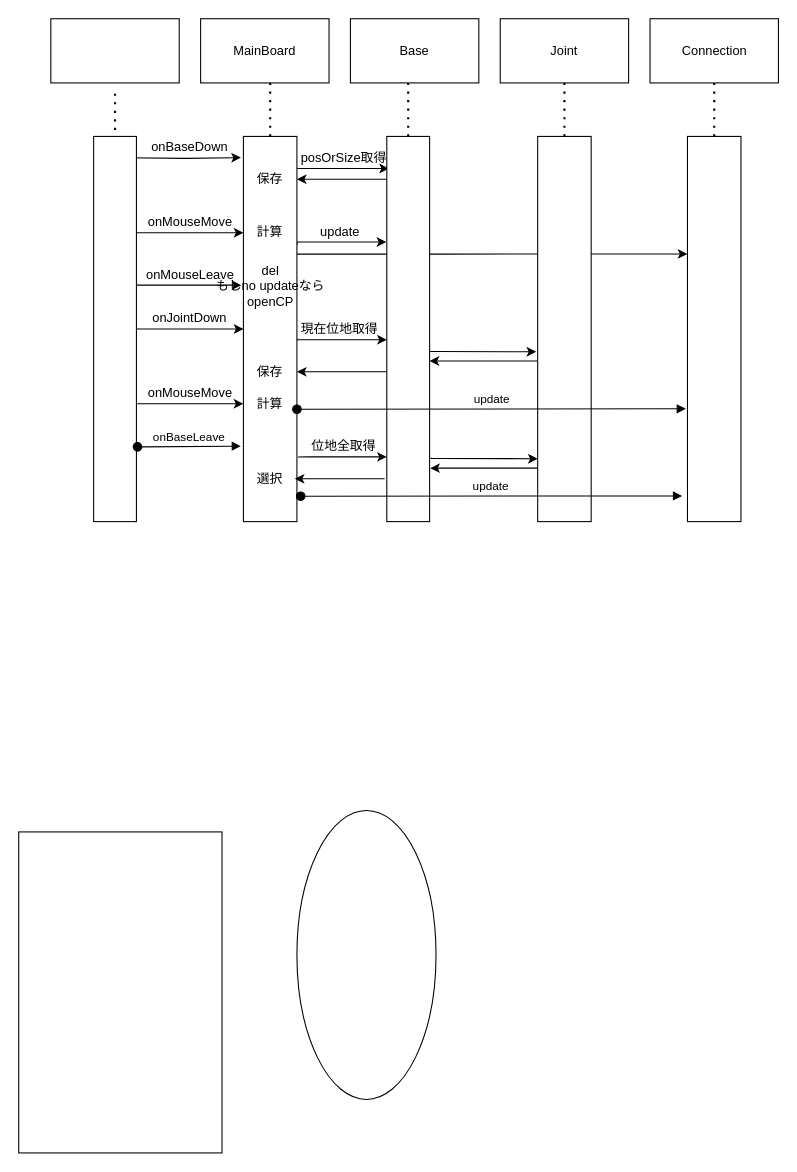
Some shapes in this 797 by 1172 pixel diagram are drawn without their labels. The shapes that lost their labels are listed below. From the top down, each one's box as (x1, y1, x2, y2) in pixels, then its label:
(50, 18, 179, 83): マウス
(296, 809, 436, 1099): 何か
